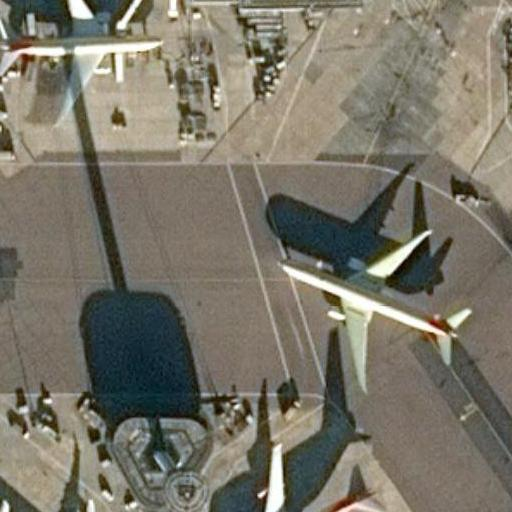Aircraft: (273, 222, 473, 394), (0, 0, 165, 124), (211, 441, 390, 512), (0, 491, 142, 512)
